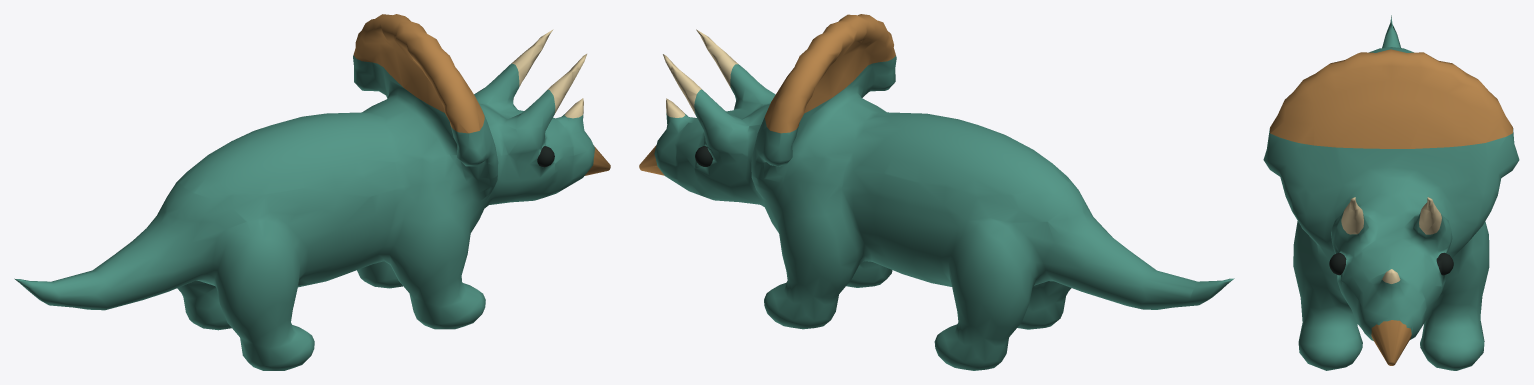
The model's file is NEW_RECOVERY_101_LOD0.glb.
The picture shows the model from 3 angles, left to right: view 1: azimuth 30°, elevation 25°; view 2: azimuth 150°, elevation 25°; view 3: azimuth 270°, elevation 25°; orthographic projection. The views are drawn at different scales.
Parts seen in each view (by area): view 1: Triceratops_LOD0; view 2: Triceratops_LOD0; view 3: Triceratops_LOD0.
Part boxes in pixels (<box>): Triceratops_LOD0: <box>14,14,610,370</box>; Triceratops_LOD0: <box>639,14,1234,370</box>; Triceratops_LOD0: <box>1263,15,1519,370</box>.
Size of the model in its own units: 6.79 by 3.09 by 2.34.
